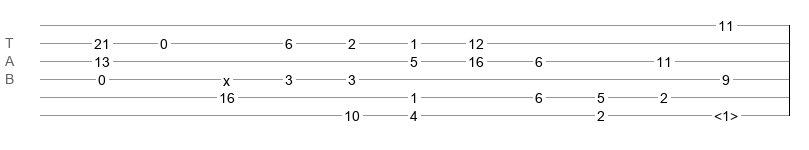0: (98, 72, 106, 82), (160, 36, 168, 46)
1: (410, 90, 418, 100), (410, 36, 418, 46)
10: (344, 108, 360, 118)
11: (656, 54, 672, 64), (718, 18, 734, 28)
12: (468, 36, 484, 46)
13: (94, 54, 110, 64)
16: (219, 90, 235, 100), (468, 54, 484, 64)
2: (348, 36, 356, 46), (597, 108, 605, 118), (660, 90, 668, 100)
21: (94, 36, 110, 46)
3: (285, 72, 293, 82), (348, 72, 356, 82)
4: (410, 108, 418, 118)
5: (410, 54, 418, 64), (597, 90, 605, 100)
6: (285, 36, 293, 46), (535, 90, 543, 100), (535, 54, 543, 64)
9: (722, 72, 730, 82)
harmonic: (714, 108, 738, 118)
x: (223, 73, 230, 81)
